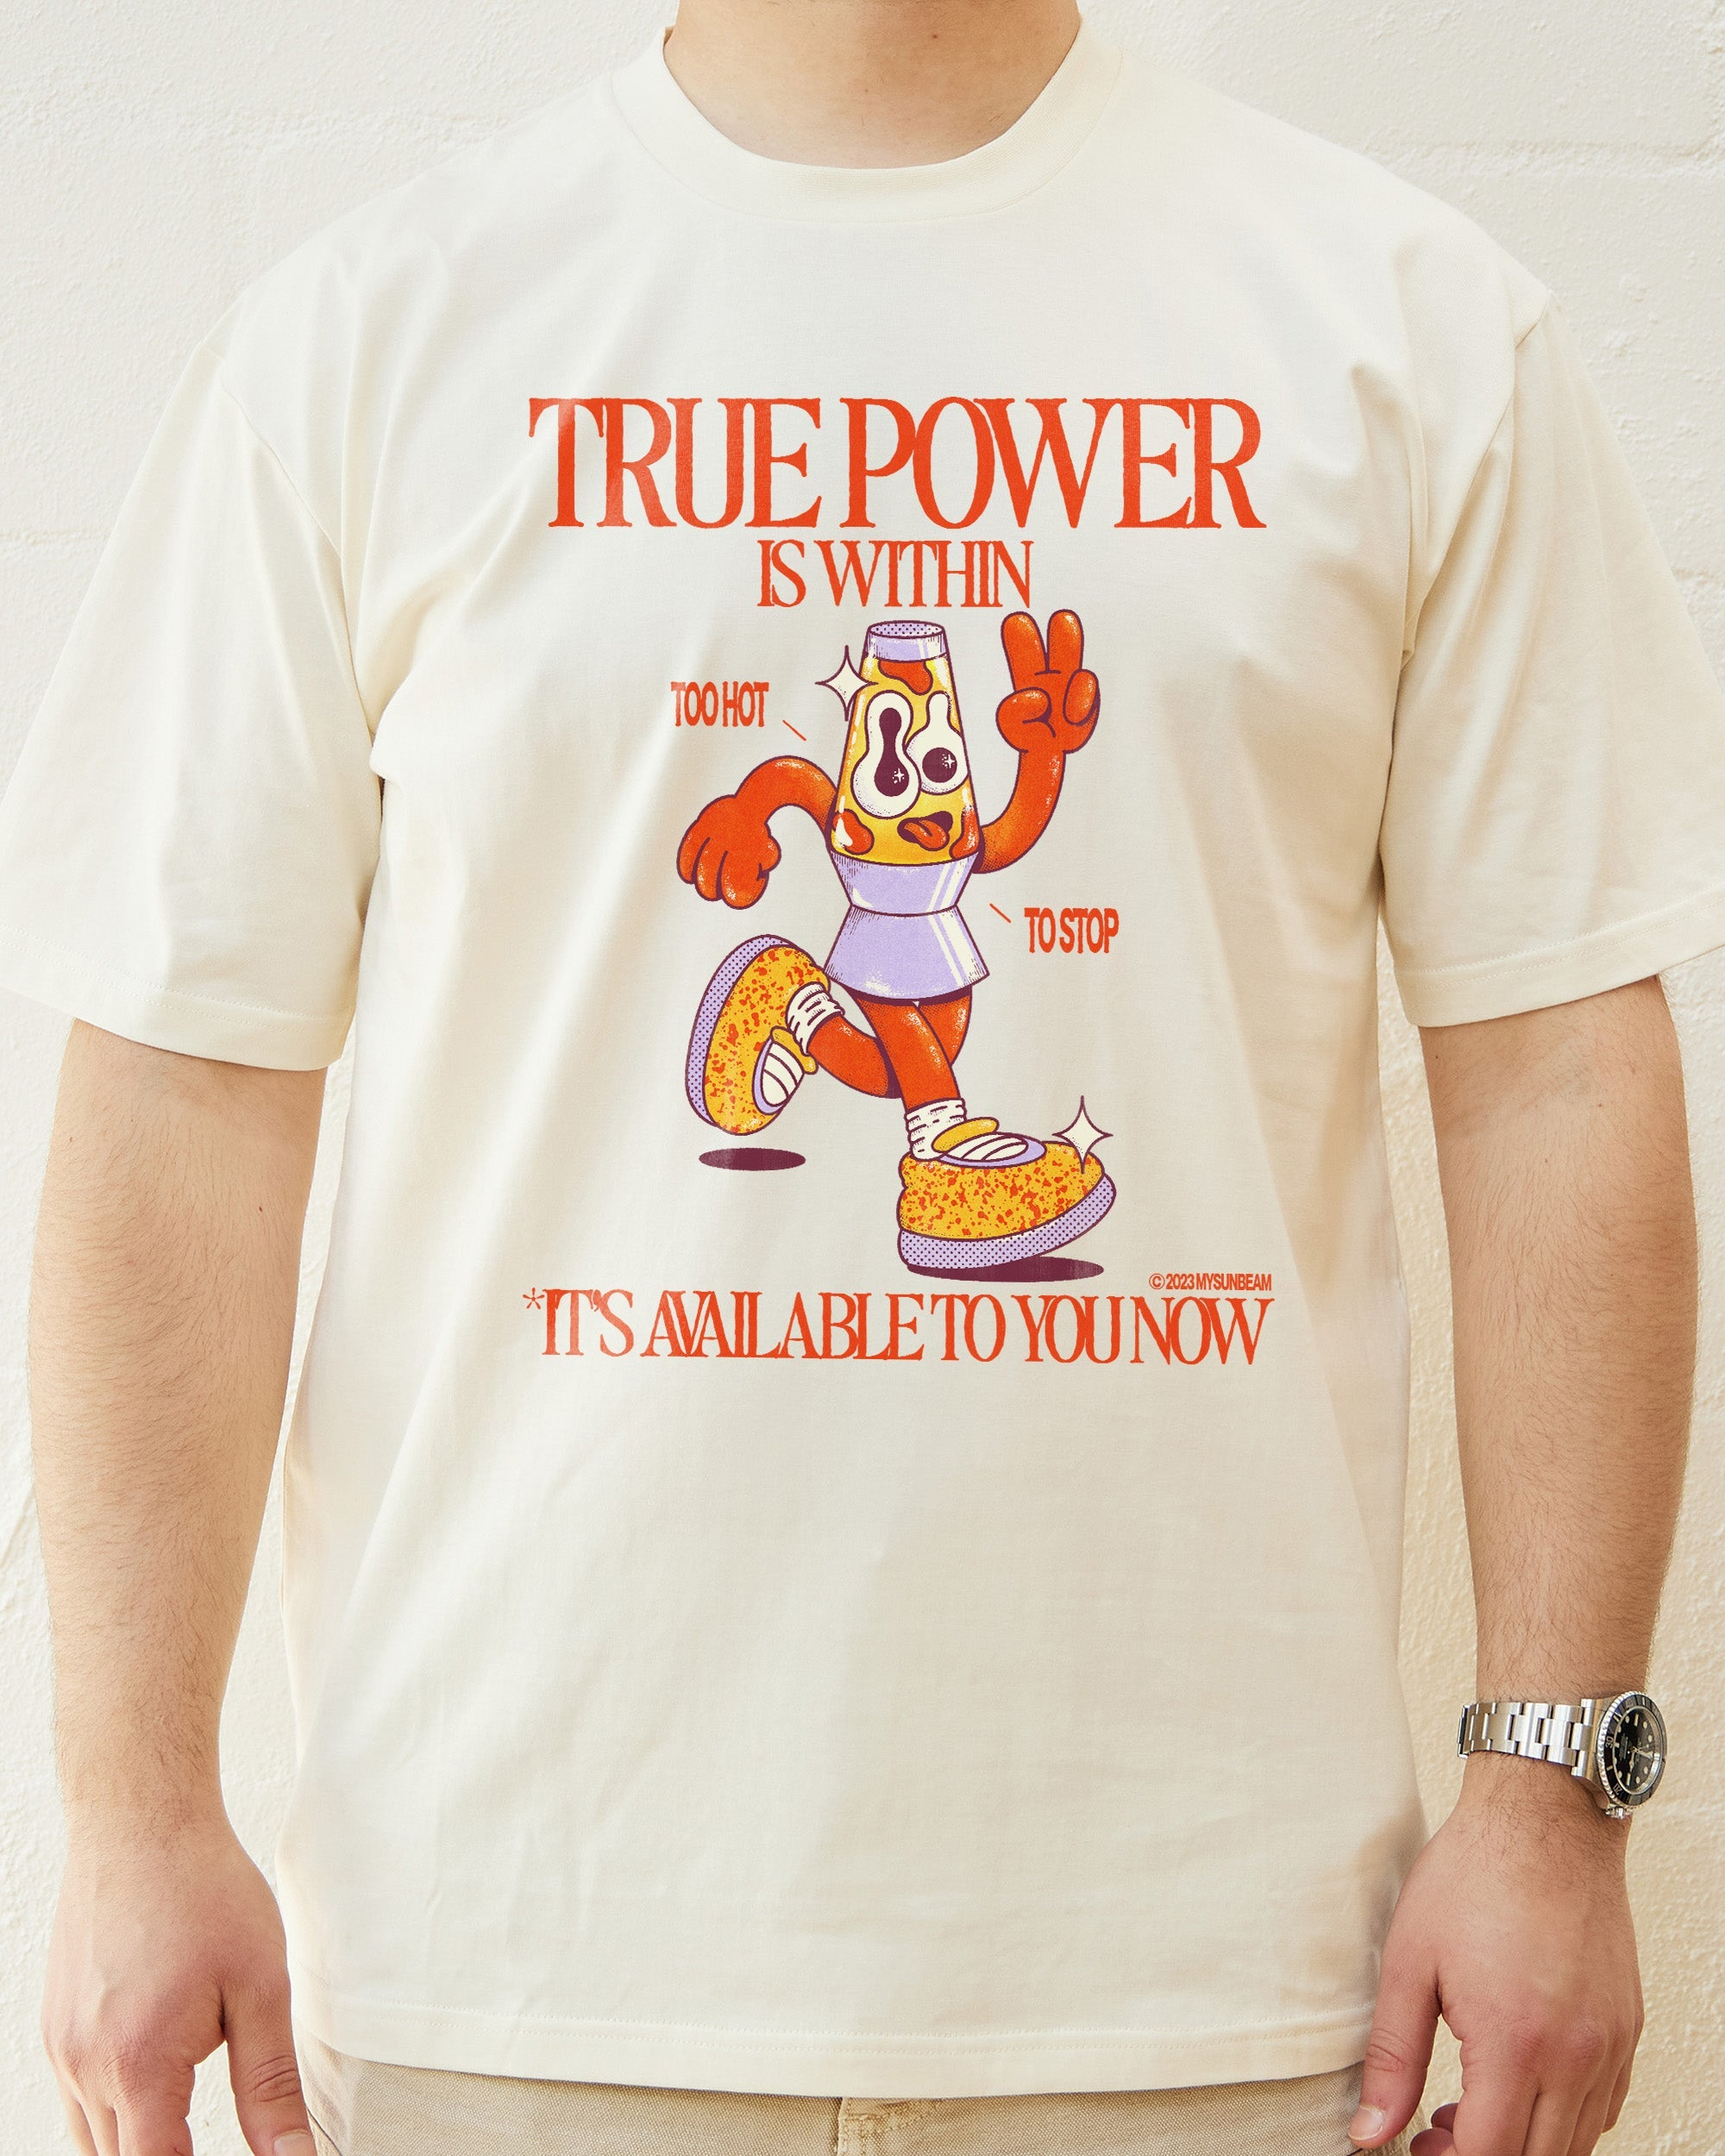design: (509, 384, 1285, 1383)
